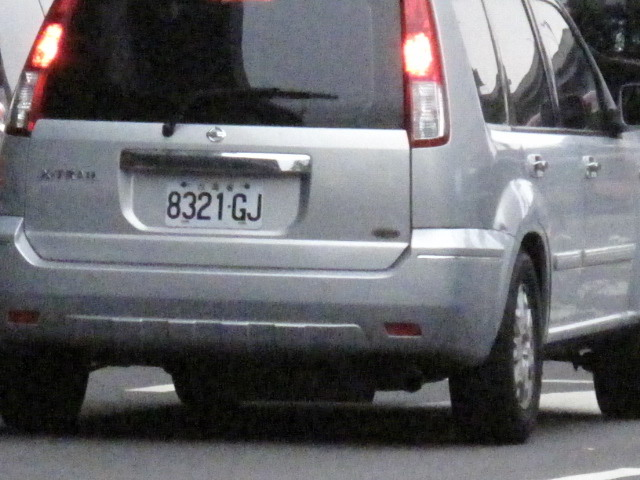plate: (165, 176, 267, 233)
